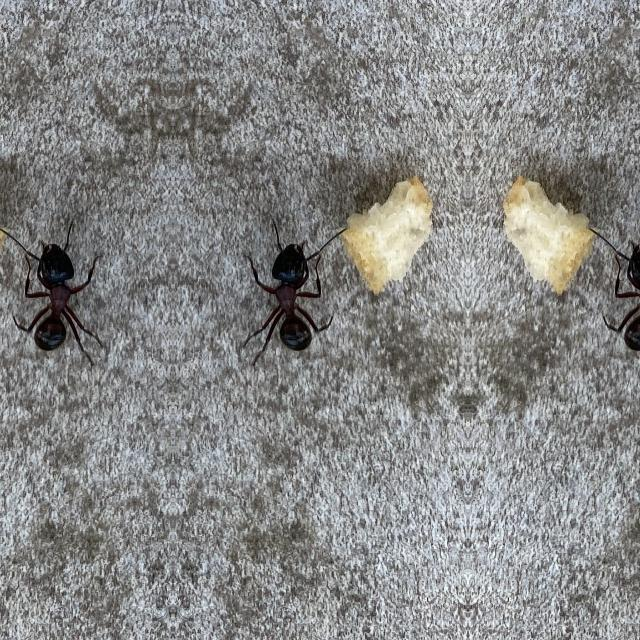Camponotus: (248, 204, 332, 388), (12, 204, 96, 388), (602, 202, 640, 388)
